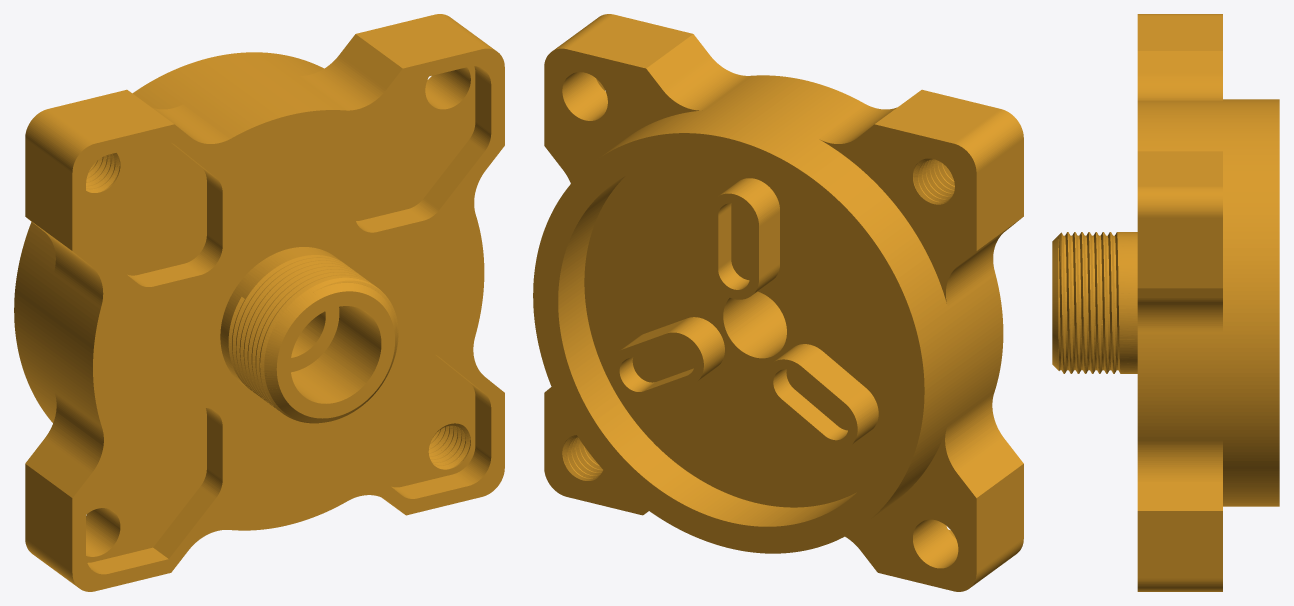
3 views of the same model, side by side, from view 1: azimuth 30°, elevation 25°; view 2: azimuth 150°, elevation 25°; view 3: azimuth 270°, elevation 25° (orthographic). The views are drawn at different scales.
Size of the model in its own units: 95 by 94 by 48.
